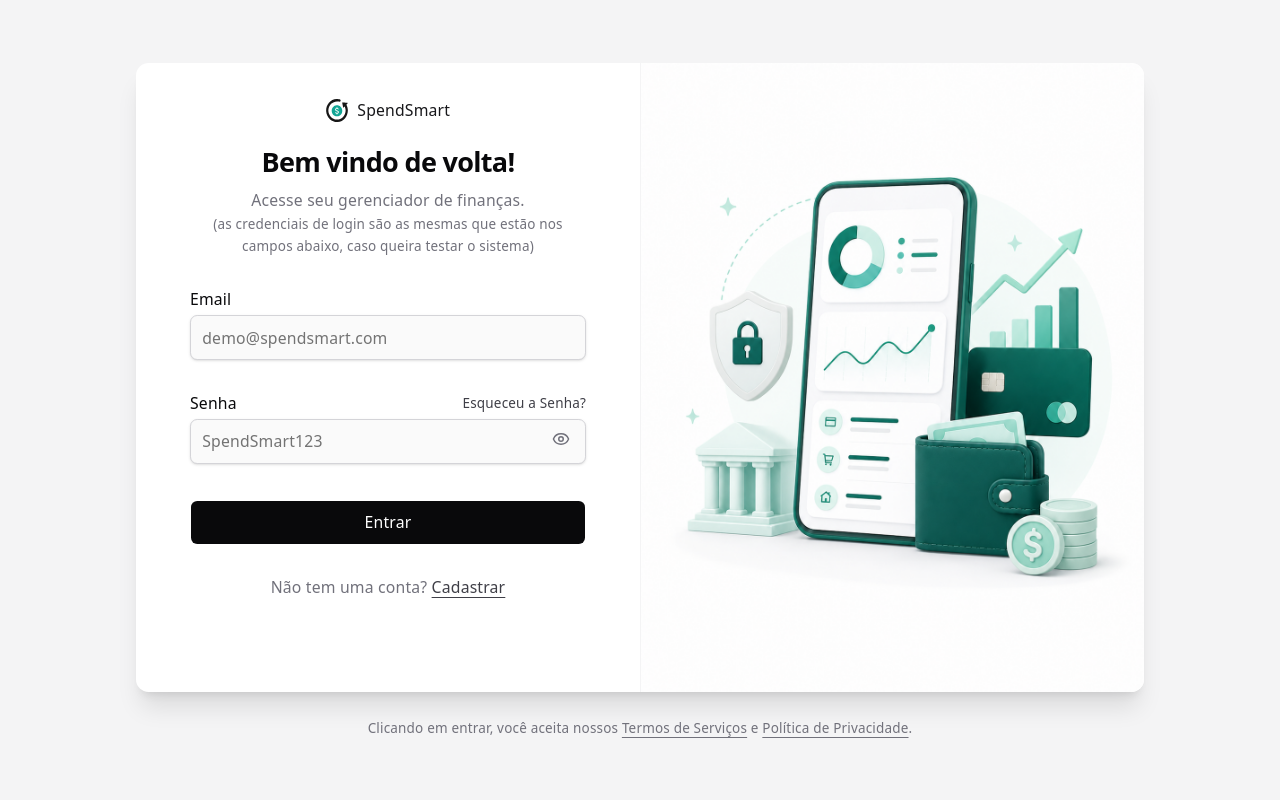
Test: Login › deve exibir erros de credenciais retornados pela API
This screenshot has width=1280, height=800.
In the field labelled "Email": (388,338) [190, 315, 586, 360], type "maria@email.com"
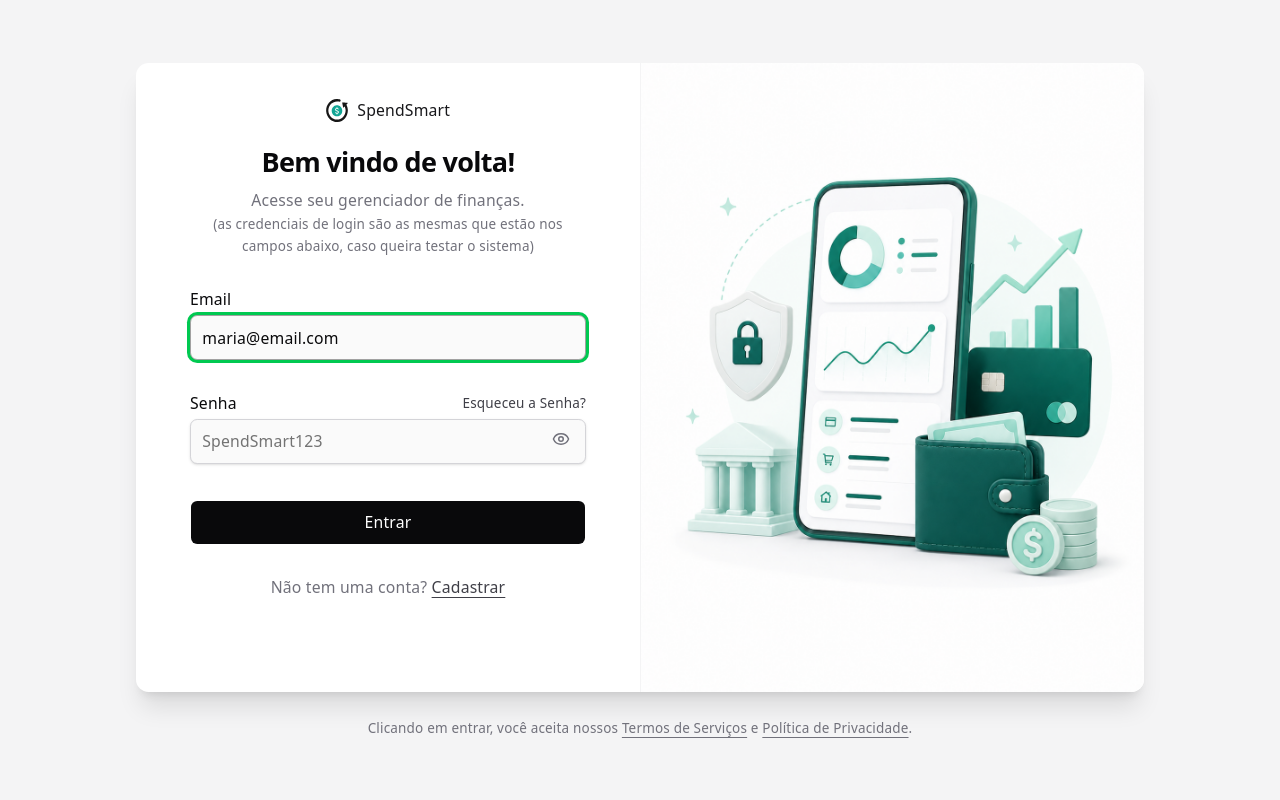
In the password field labelled "Senha": (388,441) [190, 419, 586, 464], type "Senha123"
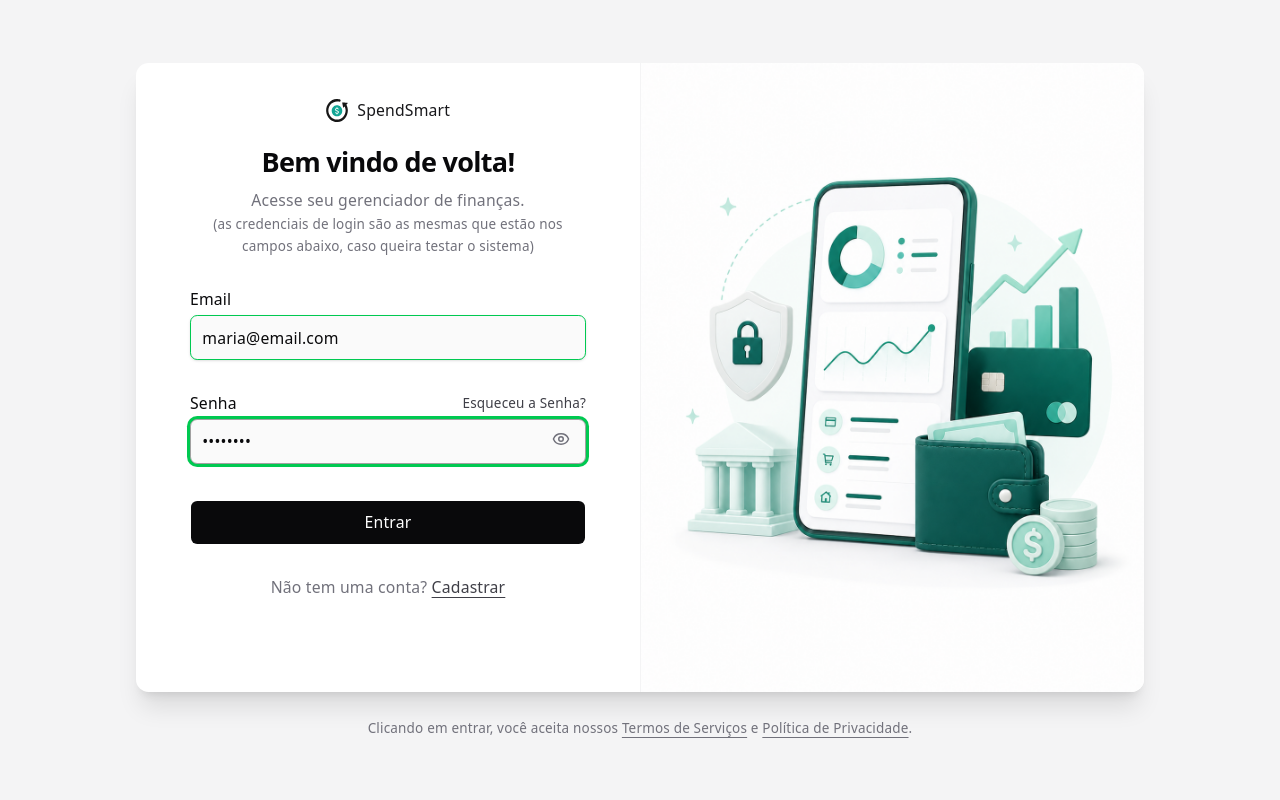
Click the button "Entrar": (388,522) [190, 500, 586, 545]
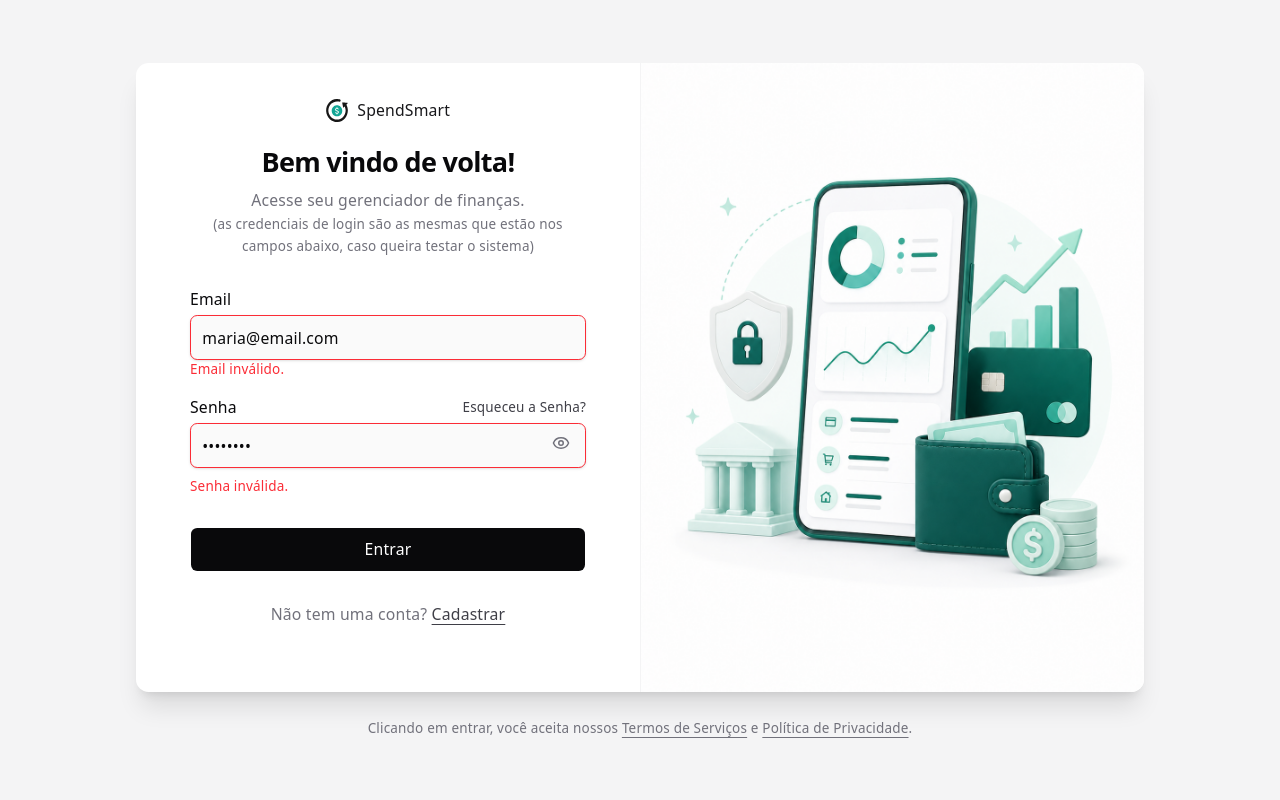
Result: the text "Email inválido." is shown at [190, 360, 284, 378]
Result: the text "Senha inválida." is shown at [190, 477, 288, 495]
